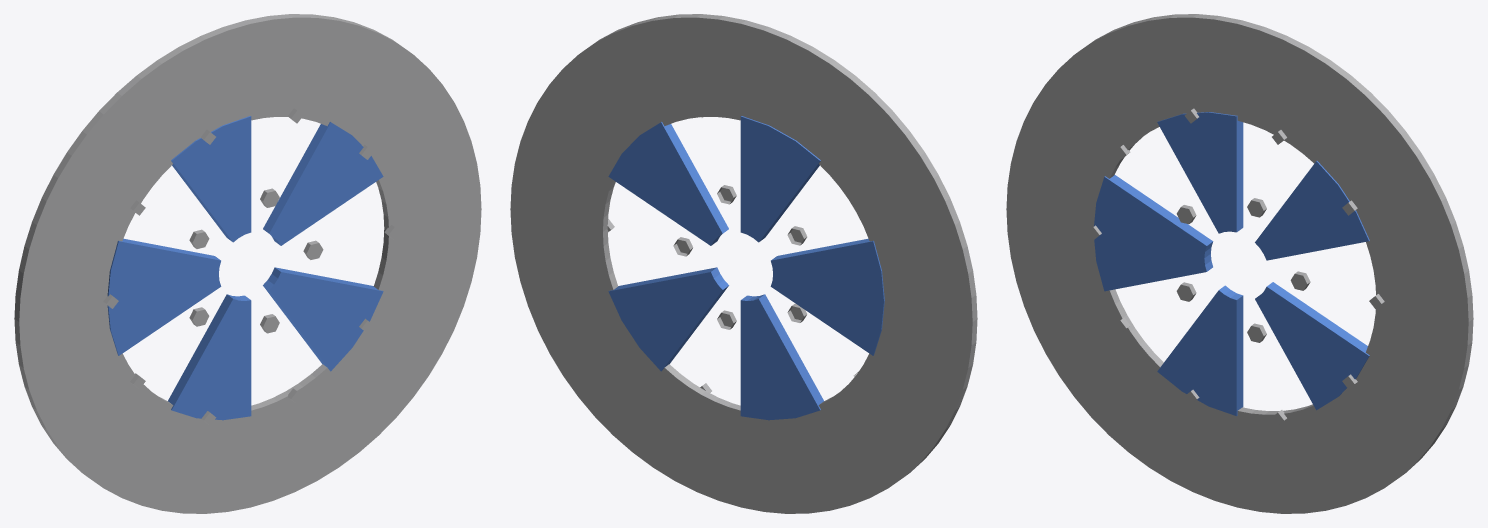
The model's file is floating_330_race_lod1.glb.
3 renders of one model, left to right at view 1: azimuth 30°, elevation 25°; view 2: azimuth 150°, elevation 25°; view 3: azimuth 330°, elevation 25°, orthographic.
Visible parts, largest first — view 1: floating_330_race_lod1; view 2: floating_330_race_lod1; view 3: floating_330_race_lod1.
Part boxes in pixels (box(x1,y1,x2,y2)): floating_330_race_lod1: box(14, 14, 481, 513); floating_330_race_lod1: box(510, 14, 977, 513); floating_330_race_lod1: box(1006, 14, 1473, 513).
Size of the model in its own units: 0.33 by 0.33 by 0.011.
